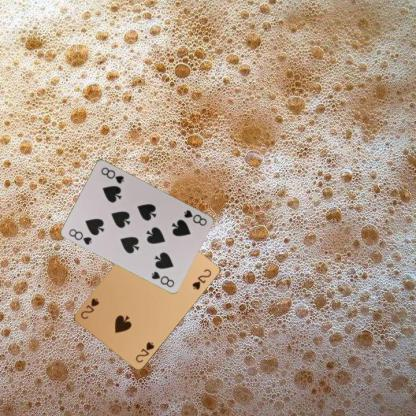2s: (133, 339, 155, 364)
8s: (181, 207, 208, 227), (66, 226, 93, 246)
